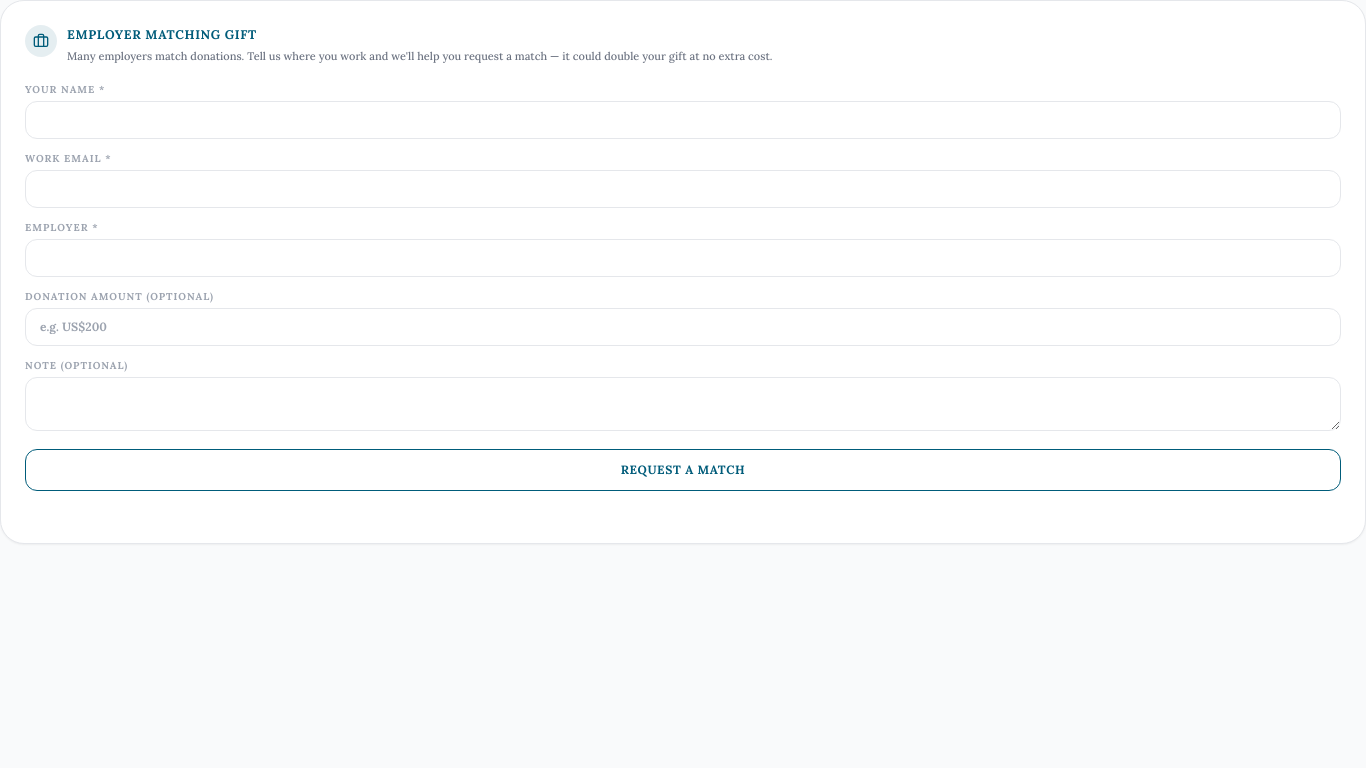
Test: MatchingGiftForm › submits successfully and shows confirmation
This screenshot has width=1366, height=768.
Step 1. Type "Jane Doe" into the field labelled "Your name *" → [683, 120], box [25,101,1341,139]
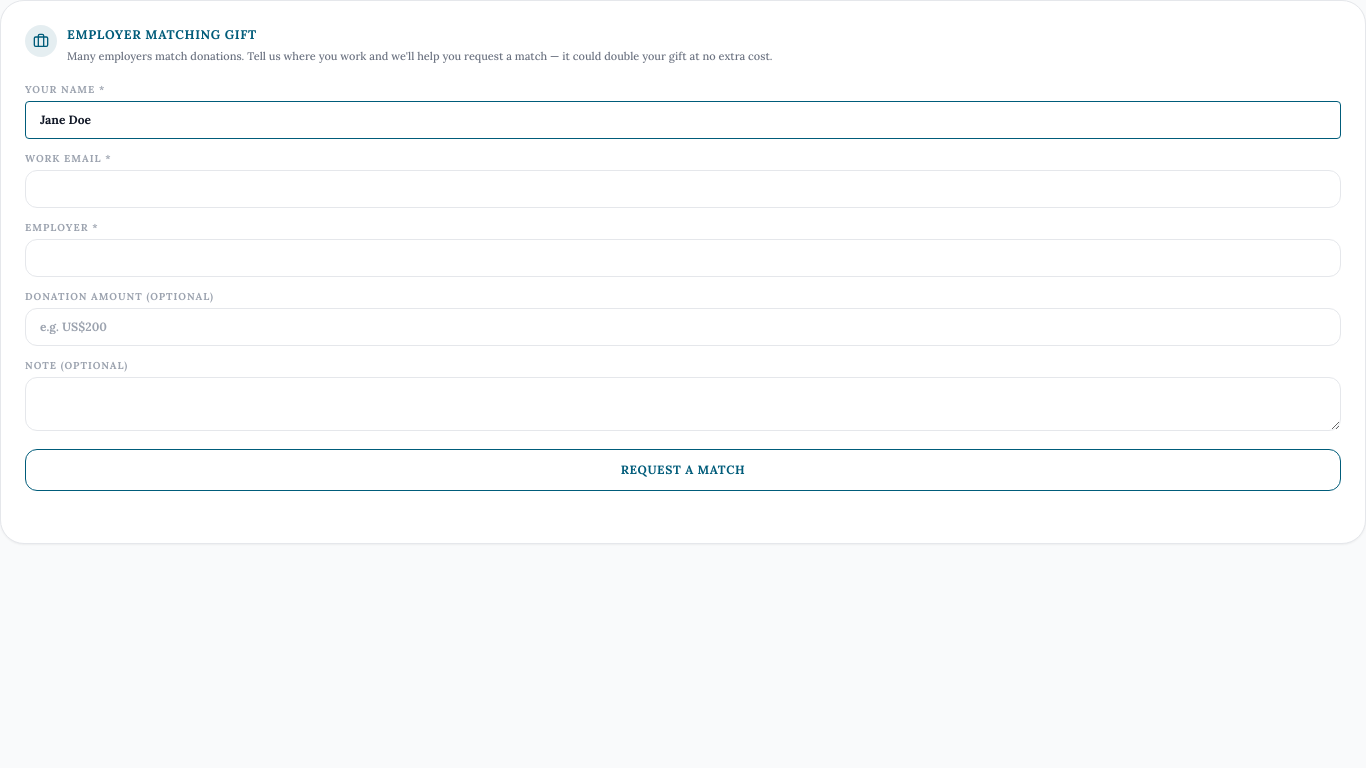
Step 2. Type "jane@example.com" into the field labelled "Work email *" → [683, 189], box [25,170,1341,208]
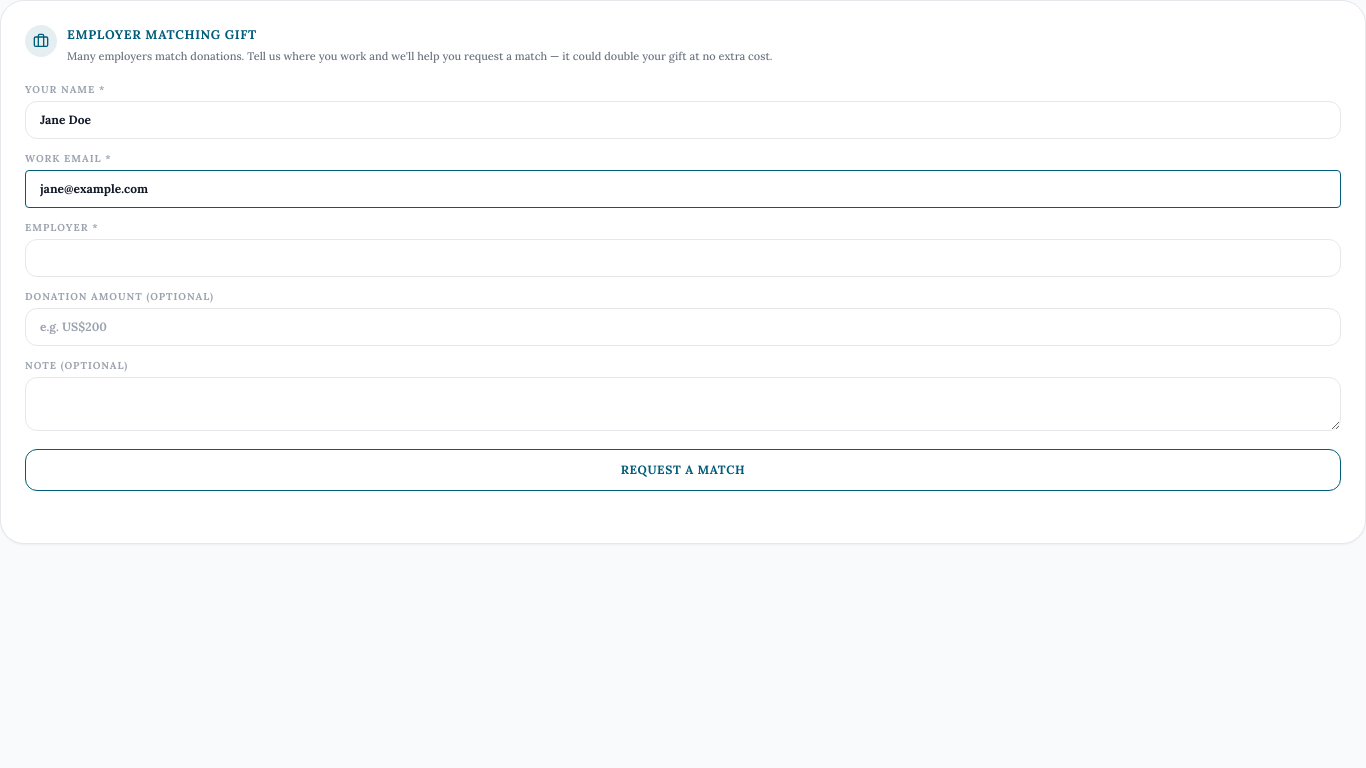
Step 3. Type "Acme Corp" into the field labelled "Employer *" → [683, 258], box [25,239,1341,277]
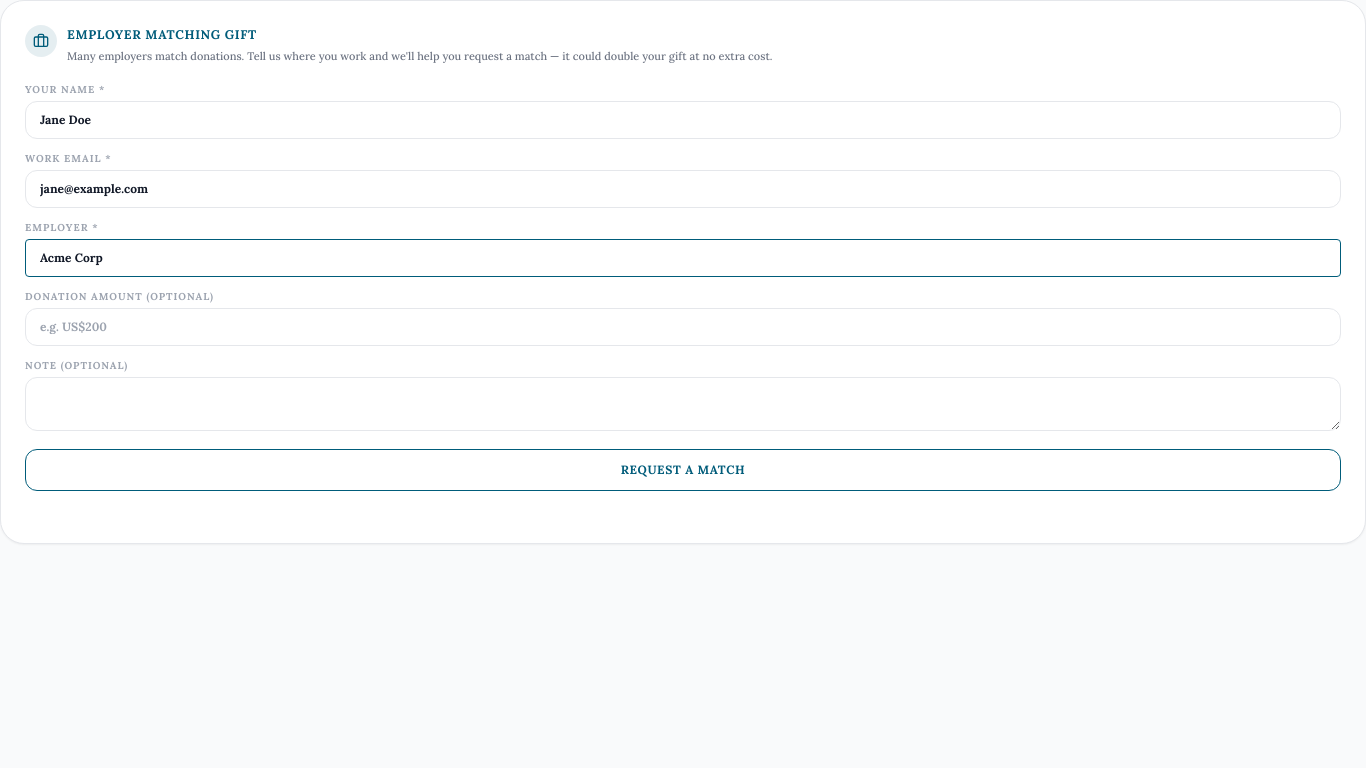
Step 4. Click the button "Request a Match" → [683, 470], box [25,449,1341,491]
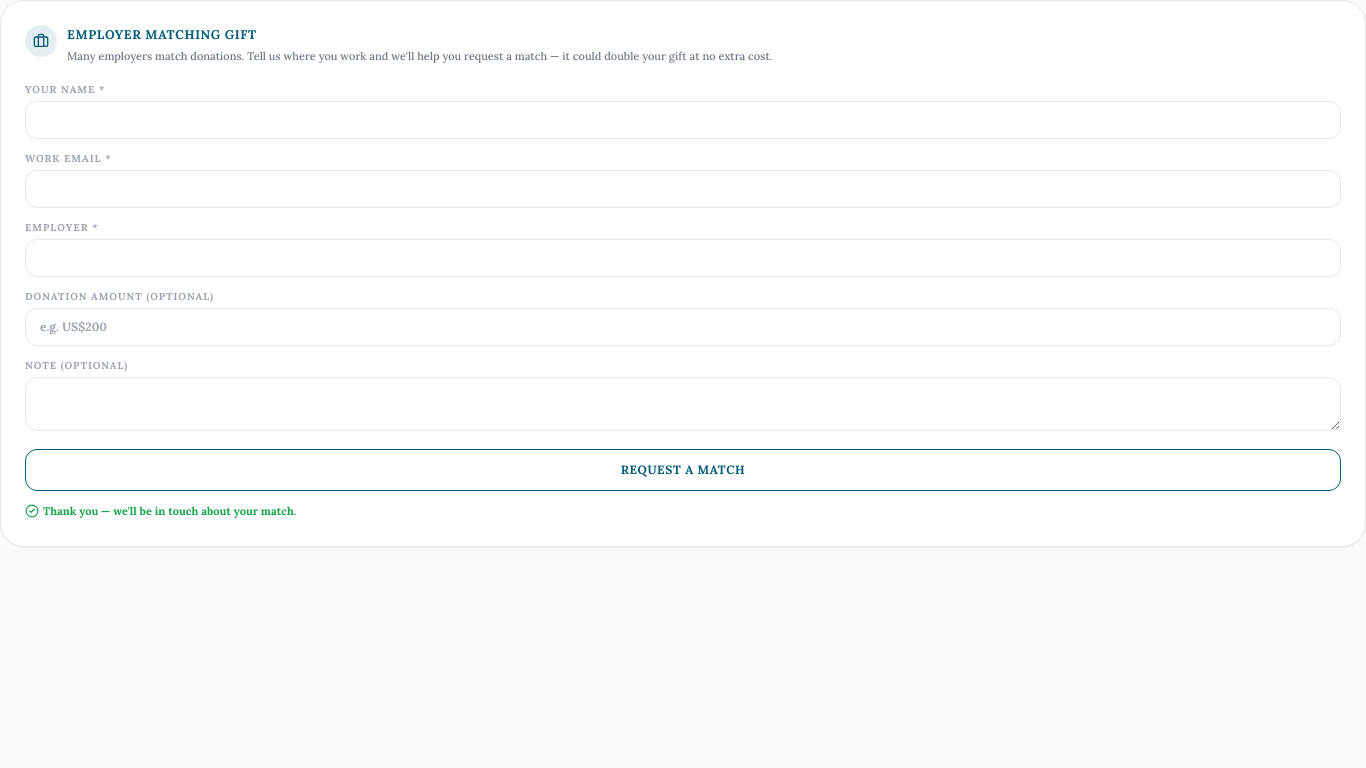
expect the text "Thank you — we'll be in touch about your match." is shown: met, box [25,503,296,519]
